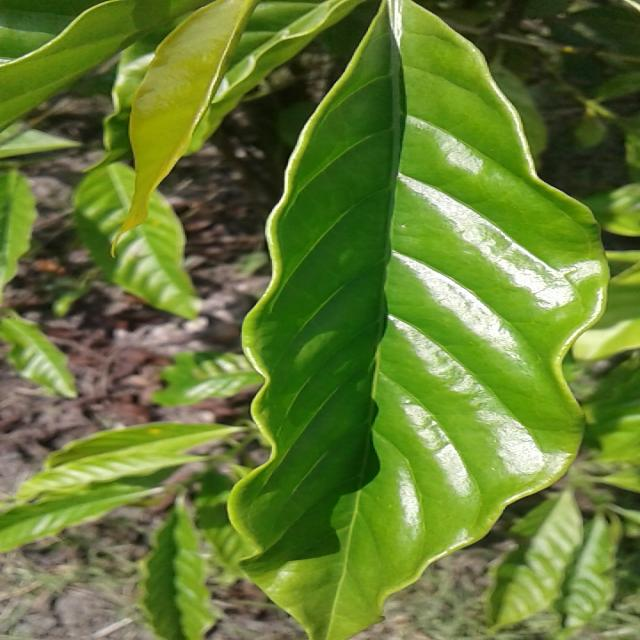Sanas: (213, 0, 609, 640)
